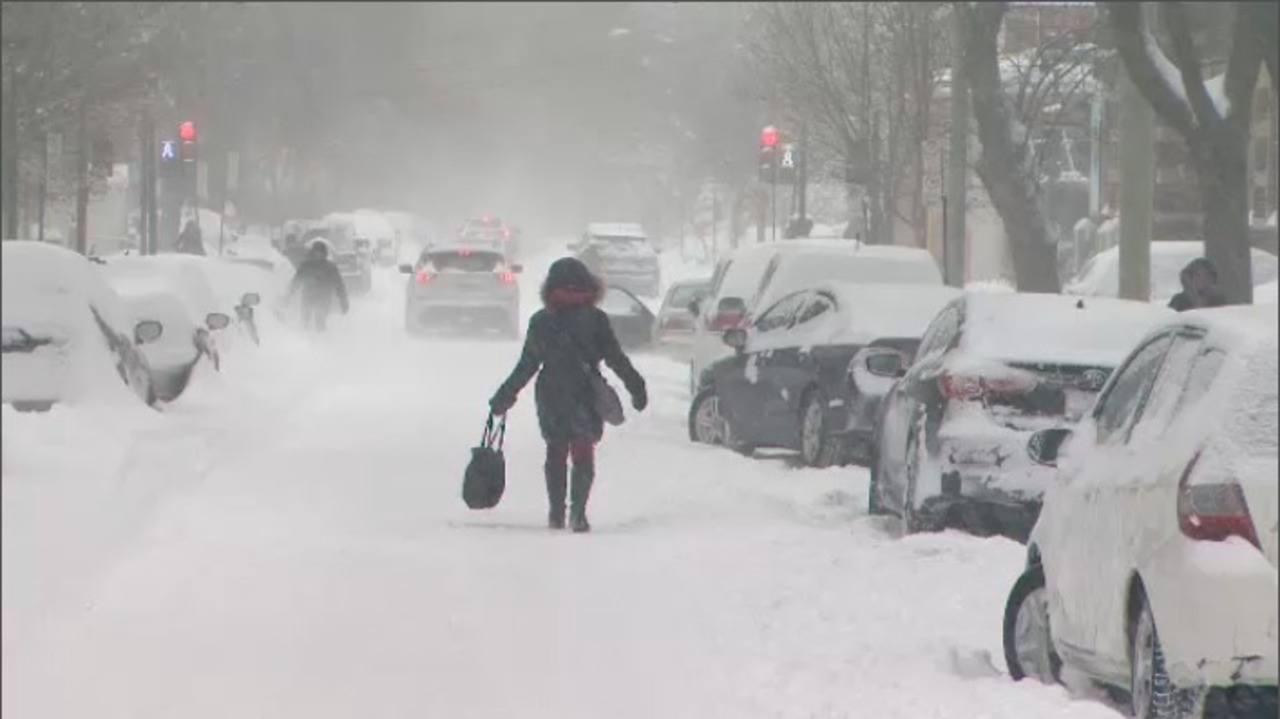car: (1005, 307, 1279, 710), (861, 291, 1174, 552), (686, 259, 946, 468), (16, 243, 155, 431), (121, 263, 220, 401), (403, 243, 514, 338), (191, 267, 261, 388), (278, 223, 378, 298), (569, 226, 668, 294), (659, 259, 726, 337), (460, 225, 519, 256)
person: (474, 266, 647, 537), (286, 238, 348, 334), (1174, 255, 1227, 308), (173, 215, 205, 254)
